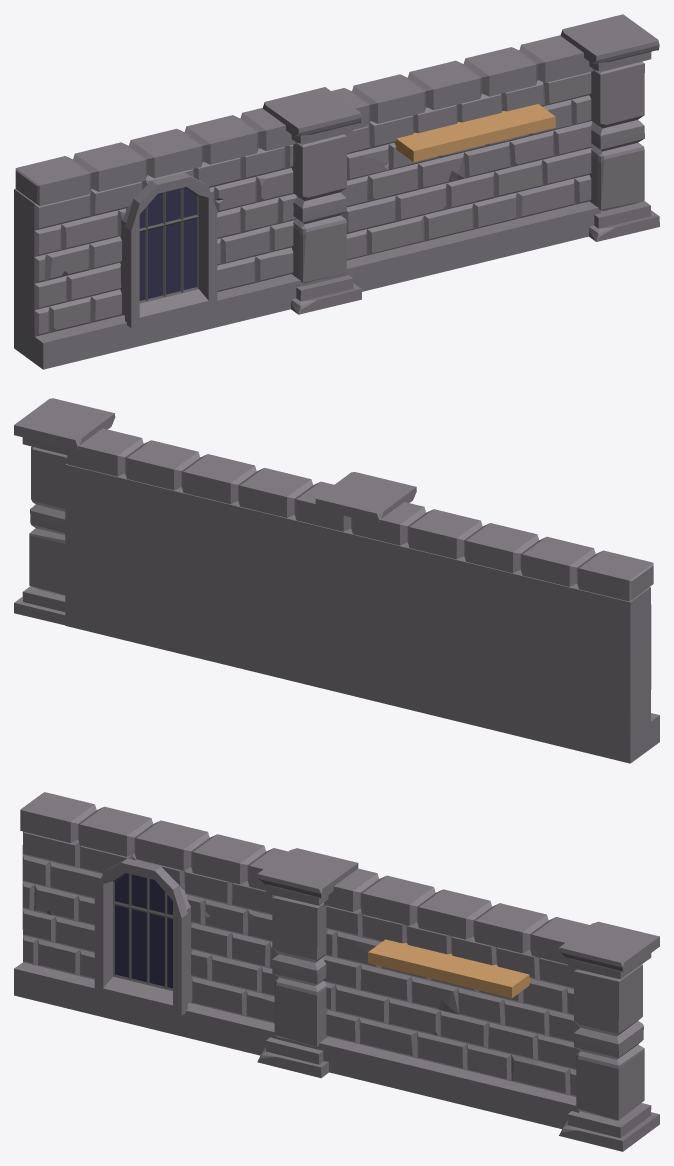
File: stone_wall_2.fbx
3 views of the same model, one above another, from view 1: azimuth 30°, elevation 25°; view 2: azimuth 150°, elevation 25°; view 3: azimuth 330°, elevation 25° (orthographic).
Visible parts, largest first — view 1: Wall_Base, Wall_Top, Pillar, Window.001, Pillar.002, Shelf.001; view 2: Wall_Base, Wall_Top, Pillar, Pillar.002; view 3: Wall_Base, Wall_Top, Pillar, Window.001, Pillar.002, Shelf.001.
Boxes of the visible parts, x1=… form: Wall_Base: x1=14, y1=72, x2=600, y2=369; Wall_Top: x1=15, y1=35, x2=593, y2=206; Pillar: x1=560, y1=14, x2=659, y2=241; Window.001: x1=120, y1=172, x2=217, y2=328; Pillar.002: x1=263, y1=87, x2=361, y2=314; Shelf.001: x1=394, y1=104, x2=555, y2=162; Wall_Base: x1=65, y1=463, x2=659, y2=763; Wall_Top: x1=67, y1=428, x2=653, y2=601; Pillar: x1=14, y1=398, x2=115, y2=625; Pillar.002: x1=315, y1=472, x2=416, y2=524; Wall_Base: x1=14, y1=831, x2=580, y2=1128; Wall_Top: x1=20, y1=792, x2=589, y2=964; Pillar: x1=558, y1=921, x2=659, y2=1151; Window.001: x1=94, y1=858, x2=192, y2=1015; Pillar.002: x1=257, y1=848, x2=358, y2=1078; Shelf.001: x1=368, y1=939, x2=530, y2=998.
Bounding box in the file's own units: 2402 × 702 × 270.
